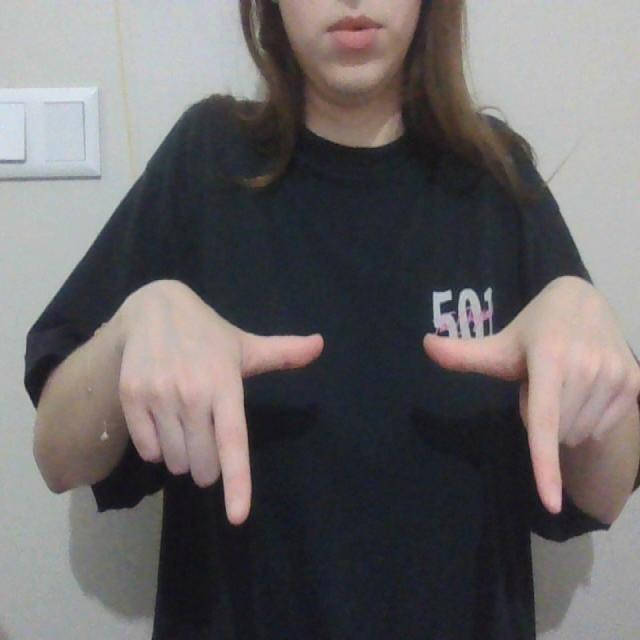Nerede: (207, 310, 568, 536)
